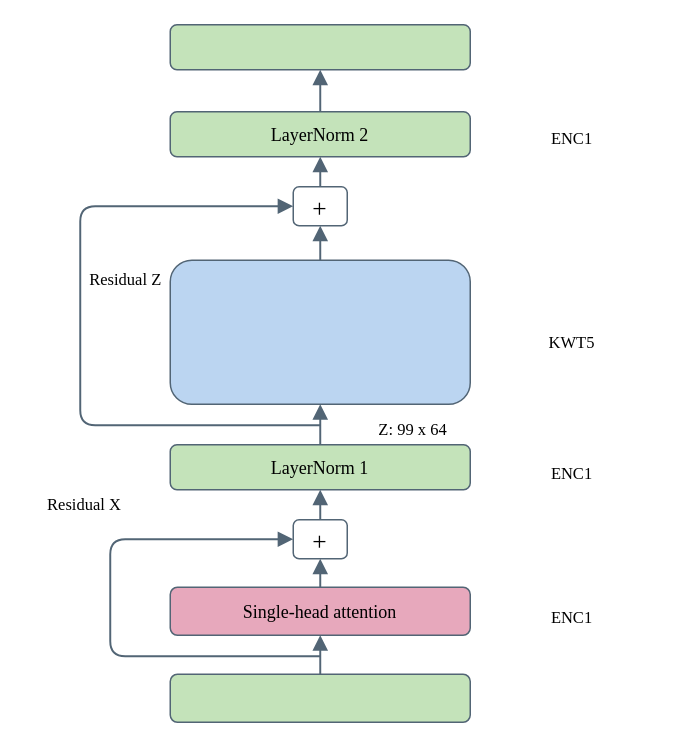
The diagram is 680 pixels wide and 747 high, and some of its shapes have lost their labels. The centre of each missing label's shape, as x and y in pixels:
"FFN2 256 -> 64 GELU FFN1 64 -> 256" belongs at point (319, 331).
"Input X: 99 x 64" belongs at point (319, 697).
"Output Y: 99 x 64" belongs at point (319, 46).
